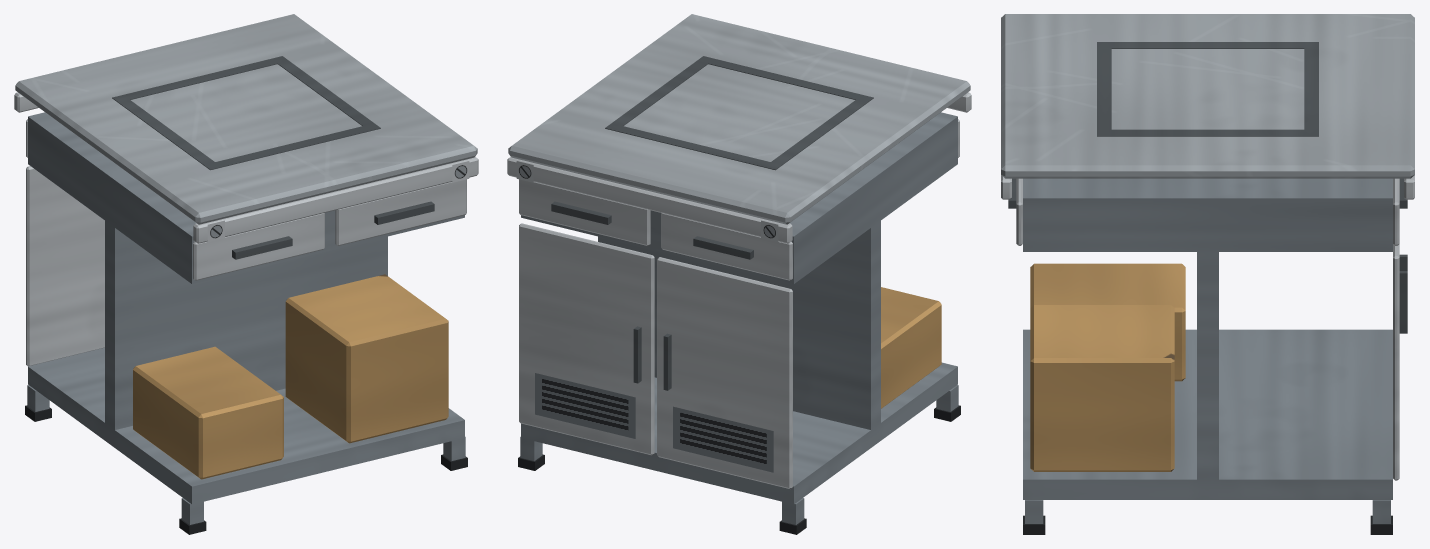
Rendered from pass_1m.glb.
3 views of the same model, side by side, from view 1: azimuth 30°, elevation 25°; view 2: azimuth 150°, elevation 25°; view 3: azimuth 270°, elevation 25° (orthographic). The views are drawn at different scales.
Parts seen in each view (by area): view 1: pass_1m_body; view 2: pass_1m_body; view 3: pass_1m_body.
Boxes of the visible parts, x1,y1,x2,y2 form: pass_1m_body: [14, 14, 478, 534]; pass_1m_body: [507, 14, 971, 534]; pass_1m_body: [1001, 14, 1414, 534].
Size of the model in its own units: 0.992 by 1.1 by 1.12.
Materials: 7 (6 with a texture image).
